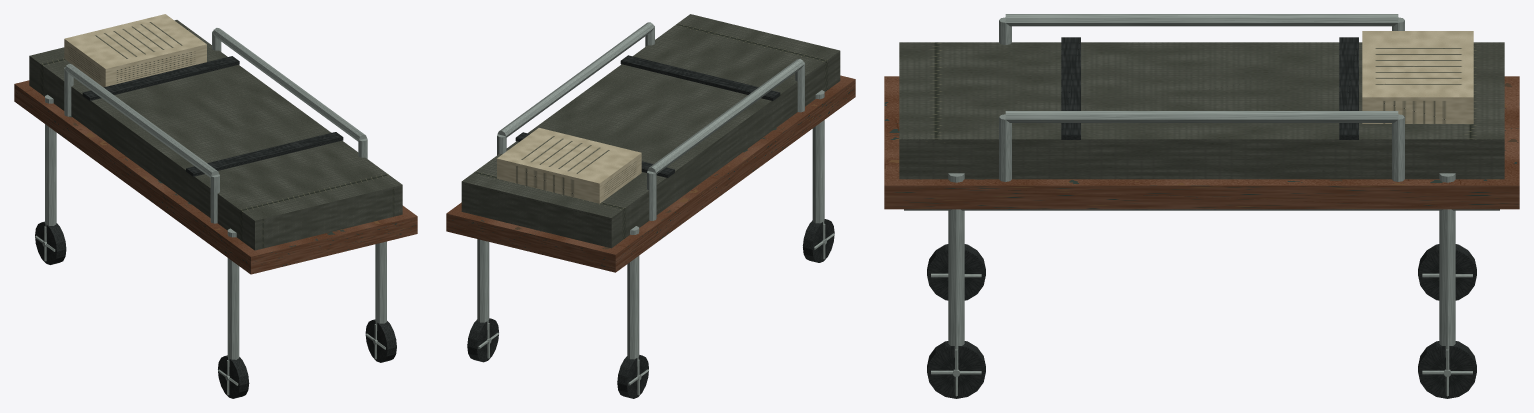
Rendered from Gurney.obj.
The picture shows the model from 3 angles, left to right: view 1: azimuth 30°, elevation 25°; view 2: azimuth 150°, elevation 25°; view 3: azimuth 270°, elevation 25°; orthographic projection. The views are drawn at different scales.
Parts seen in each view (by area): view 1: Gurney; view 2: Gurney; view 3: Gurney.
Part boxes in pixels (x1,y1,x2,y2): Gurney: (14,14,417,398); Gurney: (446,14,855,398); Gurney: (884,14,1519,398).
Size of the model in its own units: 0.79 by 0.96 by 1.94.
Materials: 5 (5 with a texture image).
